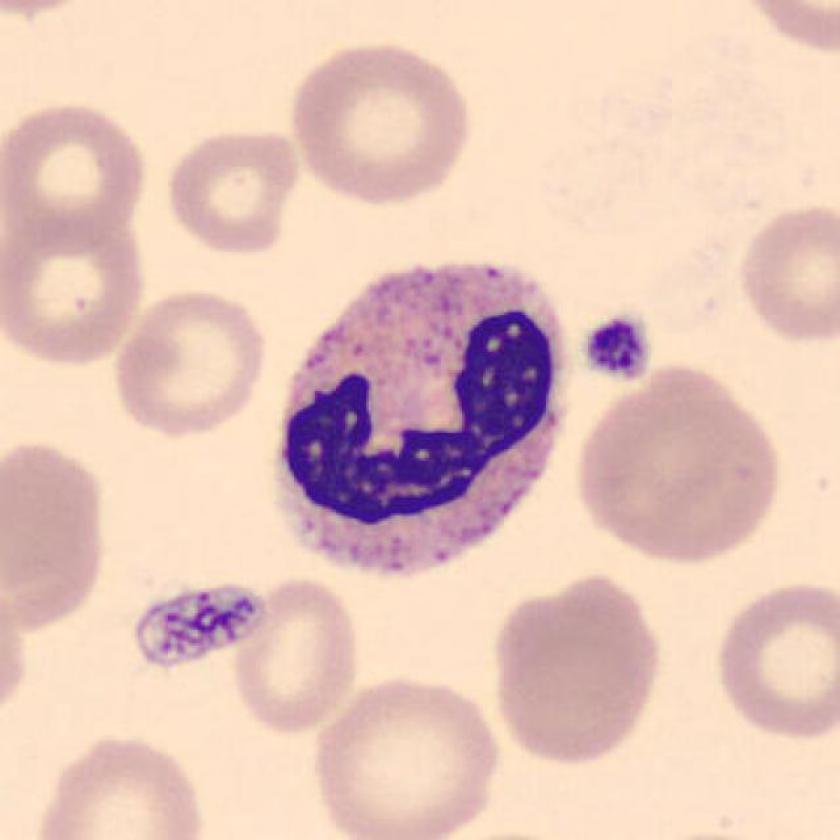neutrophil: (282, 266, 561, 568)
